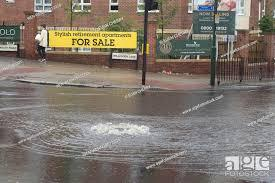drainage overflow-repair-: (67, 107, 166, 163)
